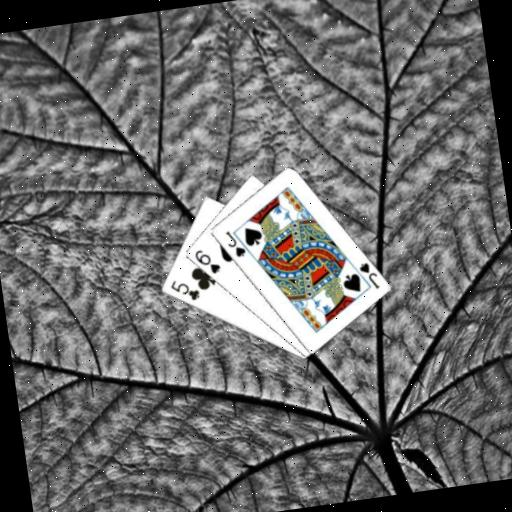5C: (166, 275, 202, 306)
6S: (190, 244, 222, 278)
JS: (222, 226, 248, 261), (355, 258, 381, 293)
